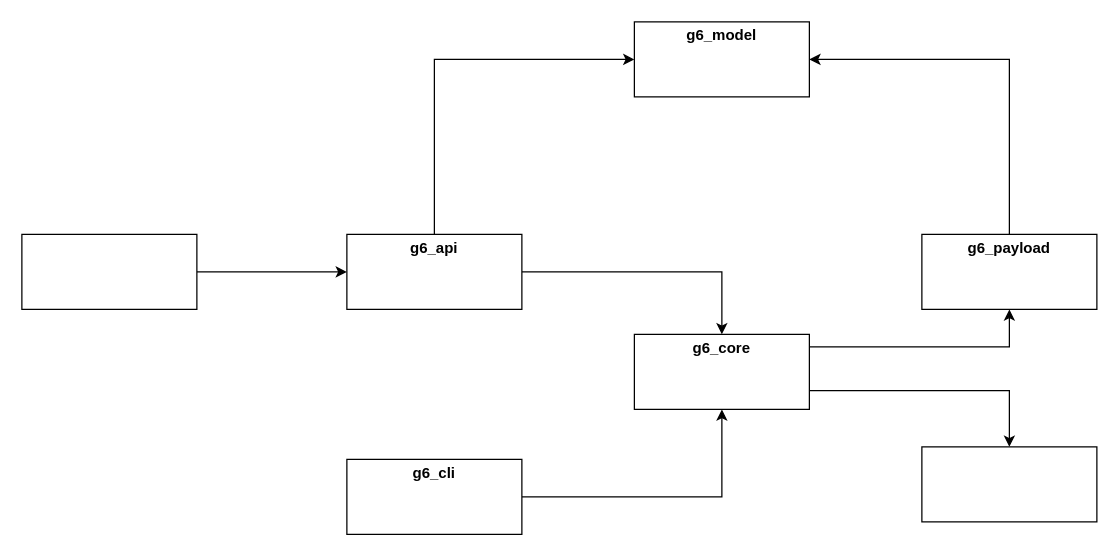
Some shapes in this 1119 by 556 pixel diagram are drawn without their labels. Here are the shapes that lost their labels. From the top down, the box of each, then its label:
(21, 233, 197, 309): g6_gui
(921, 446, 1097, 522): device
